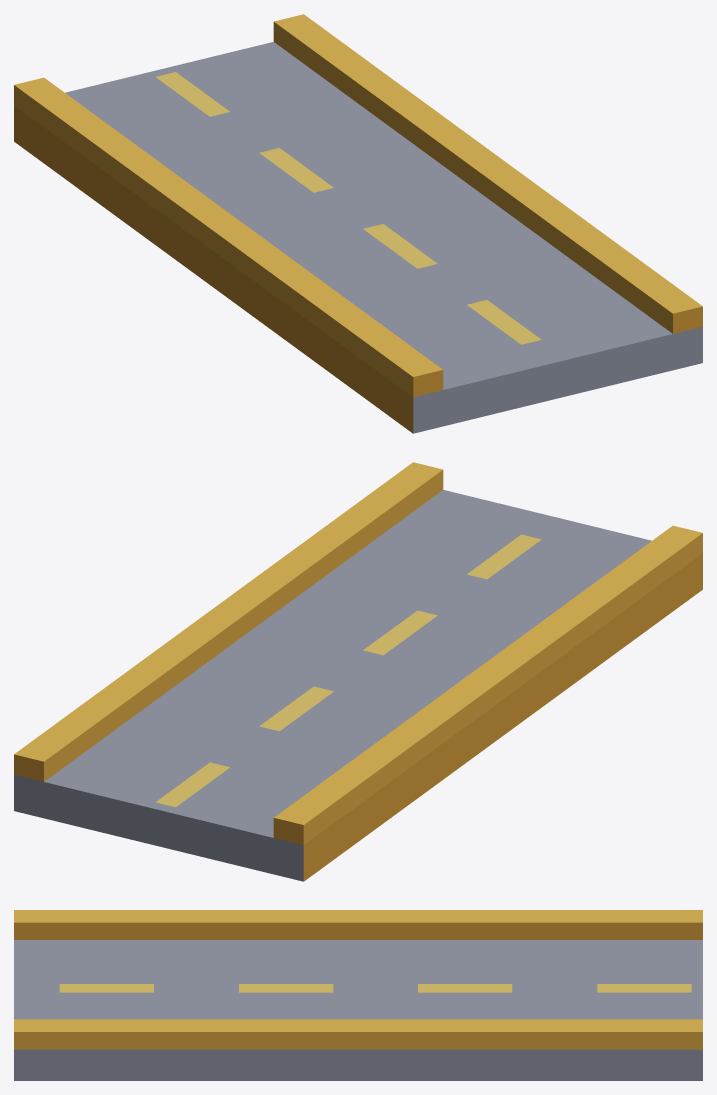
Rendered from squidgame_props_road1.fbx.
The picture shows the model from 3 angles, top to bottom: view 1: azimuth 30°, elevation 25°; view 2: azimuth 150°, elevation 25°; view 3: azimuth 270°, elevation 25°; orthographic projection. The views are drawn at different scales.
Parts seen in each view (by area): view 1: squidgame_props_road1; view 2: squidgame_props_road1; view 3: squidgame_props_road1.
Part boxes in pixels (<box>): squidgame_props_road1: <box>14,14,702,433</box>; squidgame_props_road1: <box>14,462,702,881</box>; squidgame_props_road1: <box>14,910,702,1080</box>.
Bounding box in the file's own units: 2.41 × 0.4497 × 5.74.
